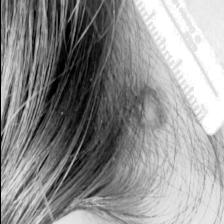Unclassified: (139, 86, 161, 128)
